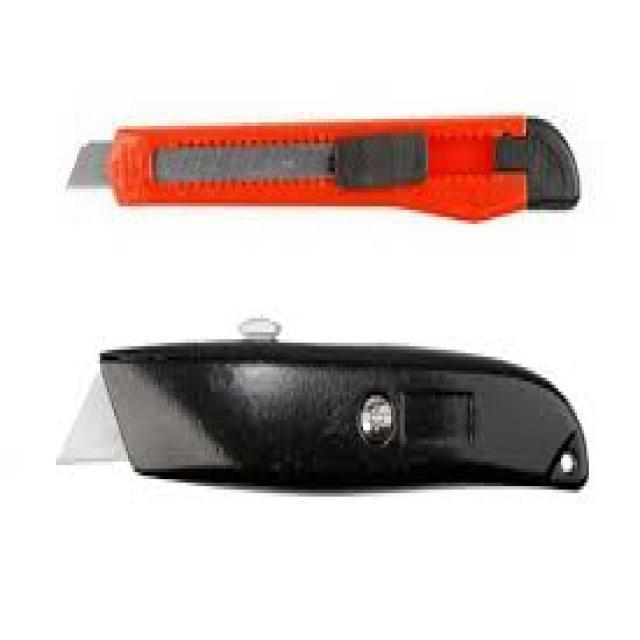cutter: (43, 296, 603, 514), (61, 112, 589, 240)
